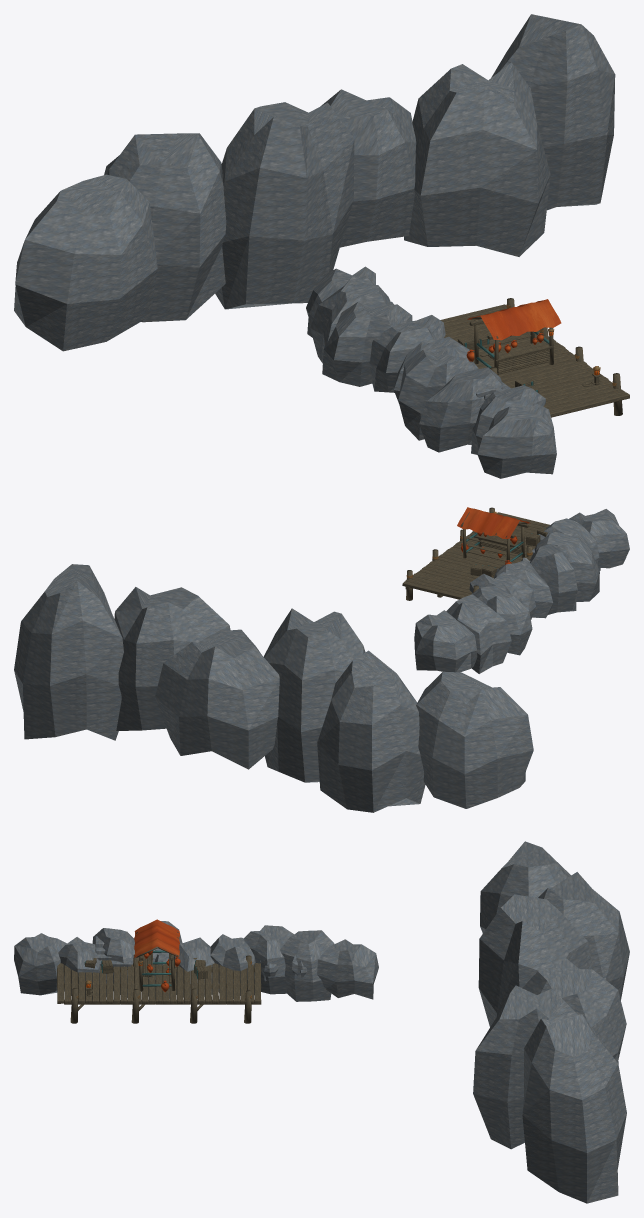
The model's file is dock.glb.
3 renders of one model, top to bottom at view 1: azimuth 30°, elevation 25°; view 2: azimuth 150°, elevation 25°; view 3: azimuth 270°, elevation 25°, orthographic. The views are drawn at different scales.
Visible parts, largest first — view 1: Coastal limestone mesh, Aged oak mesh, Fishing float mesh, Aged oak mesh.001; view 2: Coastal limestone mesh, Aged oak mesh, Fishing float mesh, Aged oak mesh.001; view 3: Coastal limestone mesh, Aged oak mesh, Fishing float mesh, Aged oak mesh.001.
Part boxes in pixels (left/top/right/bottom): Coastal limestone mesh: left=14, top=14, right=615, bottom=478; Aged oak mesh: left=440, top=298, right=629, bottom=417; Fishing float mesh: left=466, top=299, right=561, bottom=361; Aged oak mesh.001: left=469, top=302, right=553, bottom=374; Coastal limestone mesh: left=14, top=509, right=629, bottom=812; Aged oak mesh: left=402, top=507, right=549, bottom=600; Fishing float mesh: left=457, top=507, right=530, bottom=564; Aged oak mesh.001: left=460, top=512, right=528, bottom=562; Coastal limestone mesh: left=14, top=841, right=629, bottom=1203; Aged oak mesh: left=57, top=955, right=261, bottom=1023; Fishing float mesh: left=134, top=919, right=180, bottom=992; Aged oak mesh.001: left=136, top=932, right=178, bottom=990.
Bounding box in the file's own units: 34.7 × 10.61 × 35.87.
5 materials, 5 textured.
